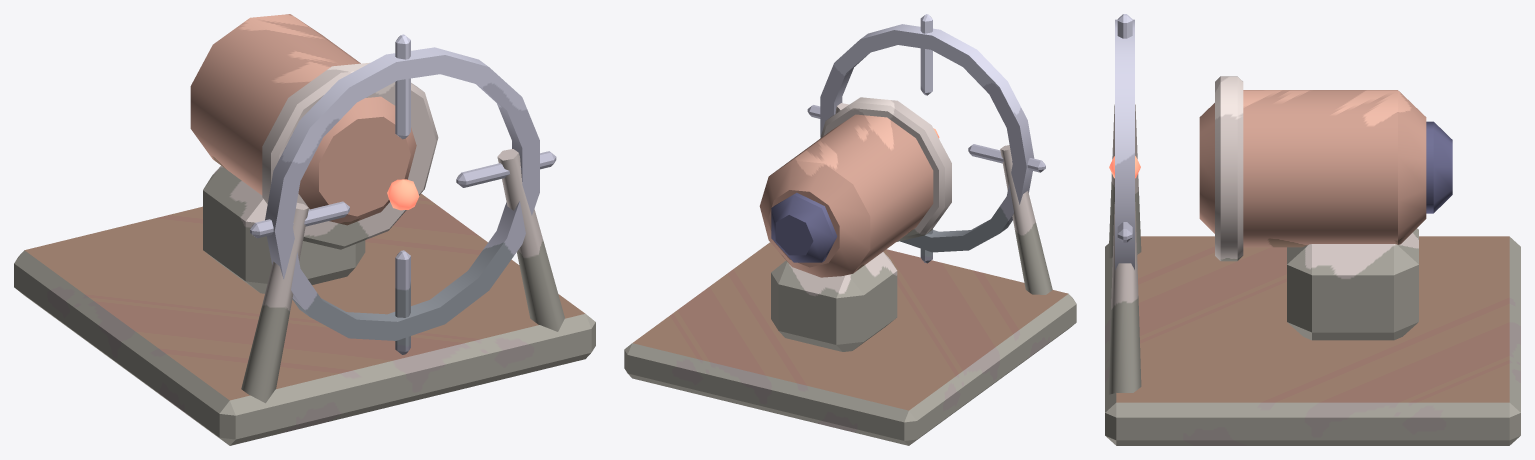
File: R4X_WeakPointScanner_LOD1.glb
3 renders of one model, left to right at view 1: azimuth 30°, elevation 25°; view 2: azimuth 150°, elevation 25°; view 3: azimuth 270°, elevation 25°, orthographic. The views are drawn at different scales.
Parts seen in each view (by area): view 1: R4X_WeakPointScanner_LOD1; view 2: R4X_WeakPointScanner_LOD1; view 3: R4X_WeakPointScanner_LOD1.
Boxes of the visible parts, x1=… form: R4X_WeakPointScanner_LOD1: x1=14, y1=14, x2=595, y2=445; R4X_WeakPointScanner_LOD1: x1=624, y1=14, x2=1076, y2=445; R4X_WeakPointScanner_LOD1: x1=1105, y1=14, x2=1520, y2=445.
Size of the model in its own units: 0.52 by 0.4803 by 0.52.
Materials: 5 (4 with a texture image).
